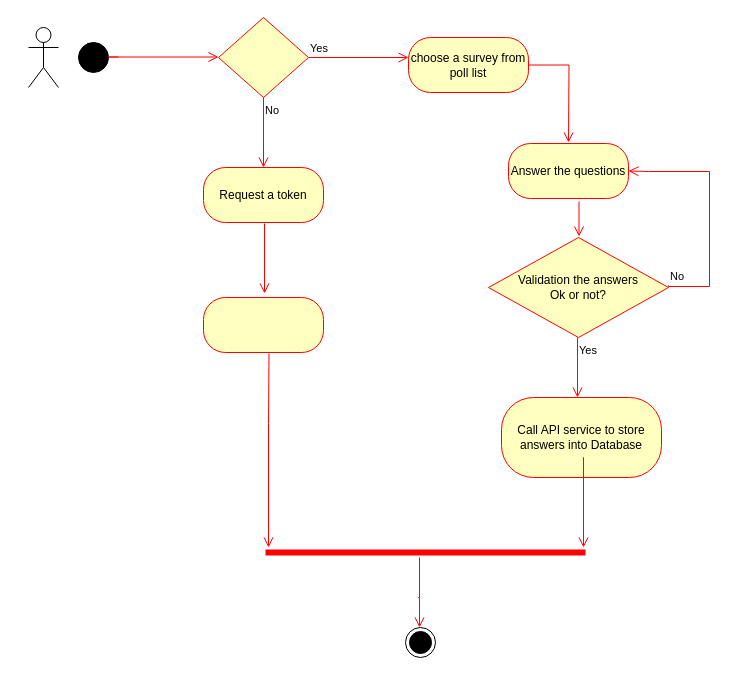
Some shapes in this 737 by 675 pixel diagram are drawn without their labels. The centre of each missing label's shape, as x and y in pixels:
Has a token?: the point at 263,57
Paticipant: the point at 43,57
Server send token to email: the point at 263,324
